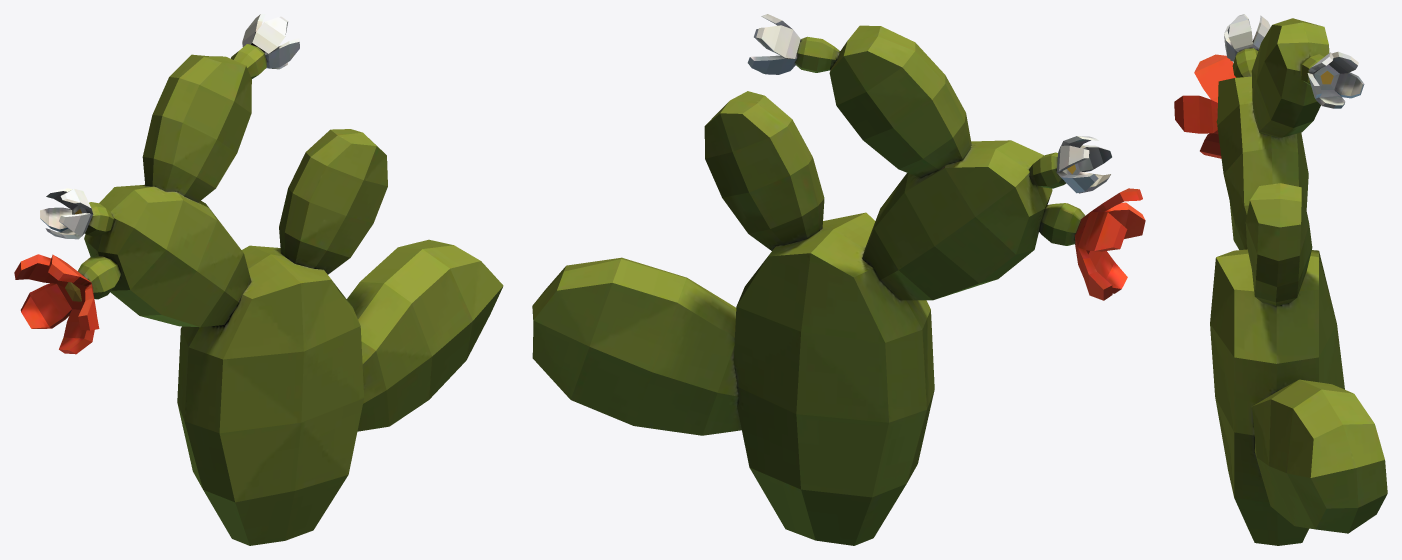
The model's file is nopal-google.glb.
3 renders of one model, left to right at view 1: azimuth 30°, elevation 25°; view 2: azimuth 150°, elevation 25°; view 3: azimuth 270°, elevation 25°, orthographic. The views are drawn at different scales.
Visible parts, largest first — view 1: prickly_pear_cactus; view 2: prickly_pear_cactus; view 3: prickly_pear_cactus.
Boxes of the visible parts, x1,y1,x2,y2 form: prickly_pear_cactus: (14, 14, 503, 545); prickly_pear_cactus: (532, 14, 1145, 545); prickly_pear_cactus: (1174, 14, 1387, 545).
Bounding box in the file's own units: 2.43 × 2.21 × 0.8761.
1 material, 1 textured.
